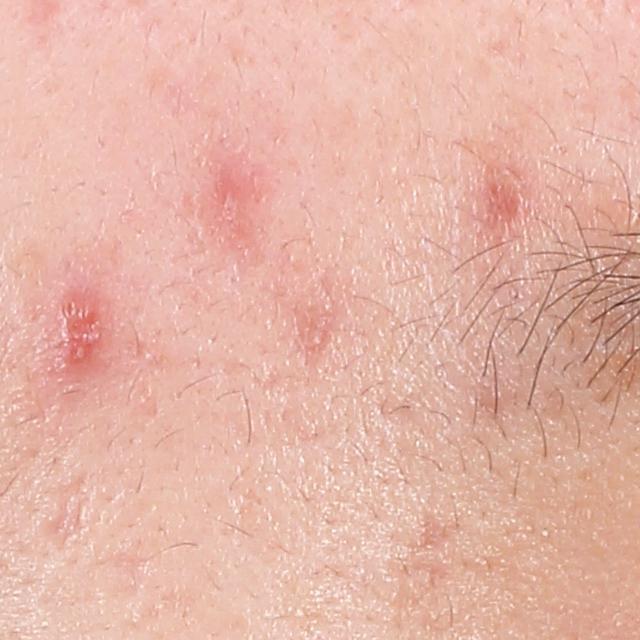atrophic_scar: (43, 472, 91, 549), (109, 547, 151, 609)
papule: (54, 288, 105, 375)
